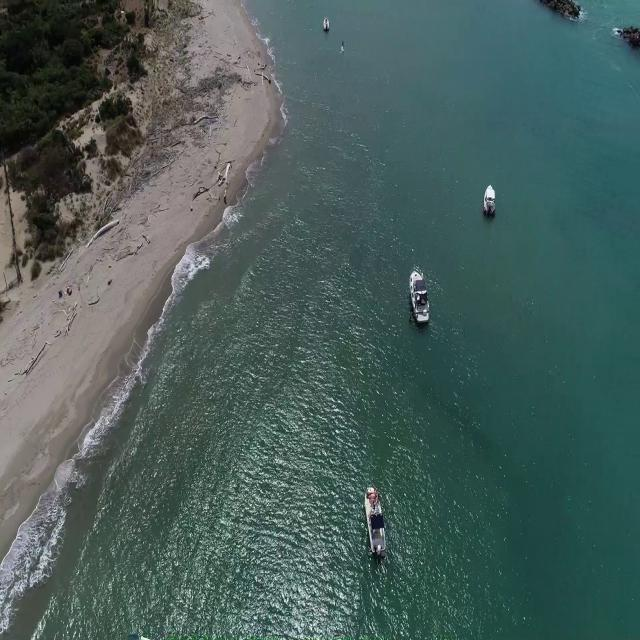boat: (361, 483, 384, 562), (403, 265, 426, 329), (478, 182, 492, 218), (316, 16, 324, 33)
person: (335, 38, 341, 49)
surfboard: (334, 45, 341, 58)
wood: (185, 162, 228, 208)
